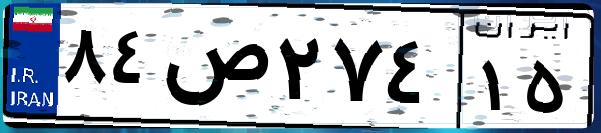1: (475, 38, 525, 113)
2: (270, 28, 330, 110)
4: (385, 28, 445, 110), (110, 28, 158, 98)
5: (525, 38, 570, 115)
7: (330, 28, 385, 110)
8: (57, 26, 110, 100)
ص: (158, 20, 270, 120)
